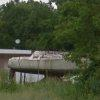Boat: (5, 41, 98, 93)
